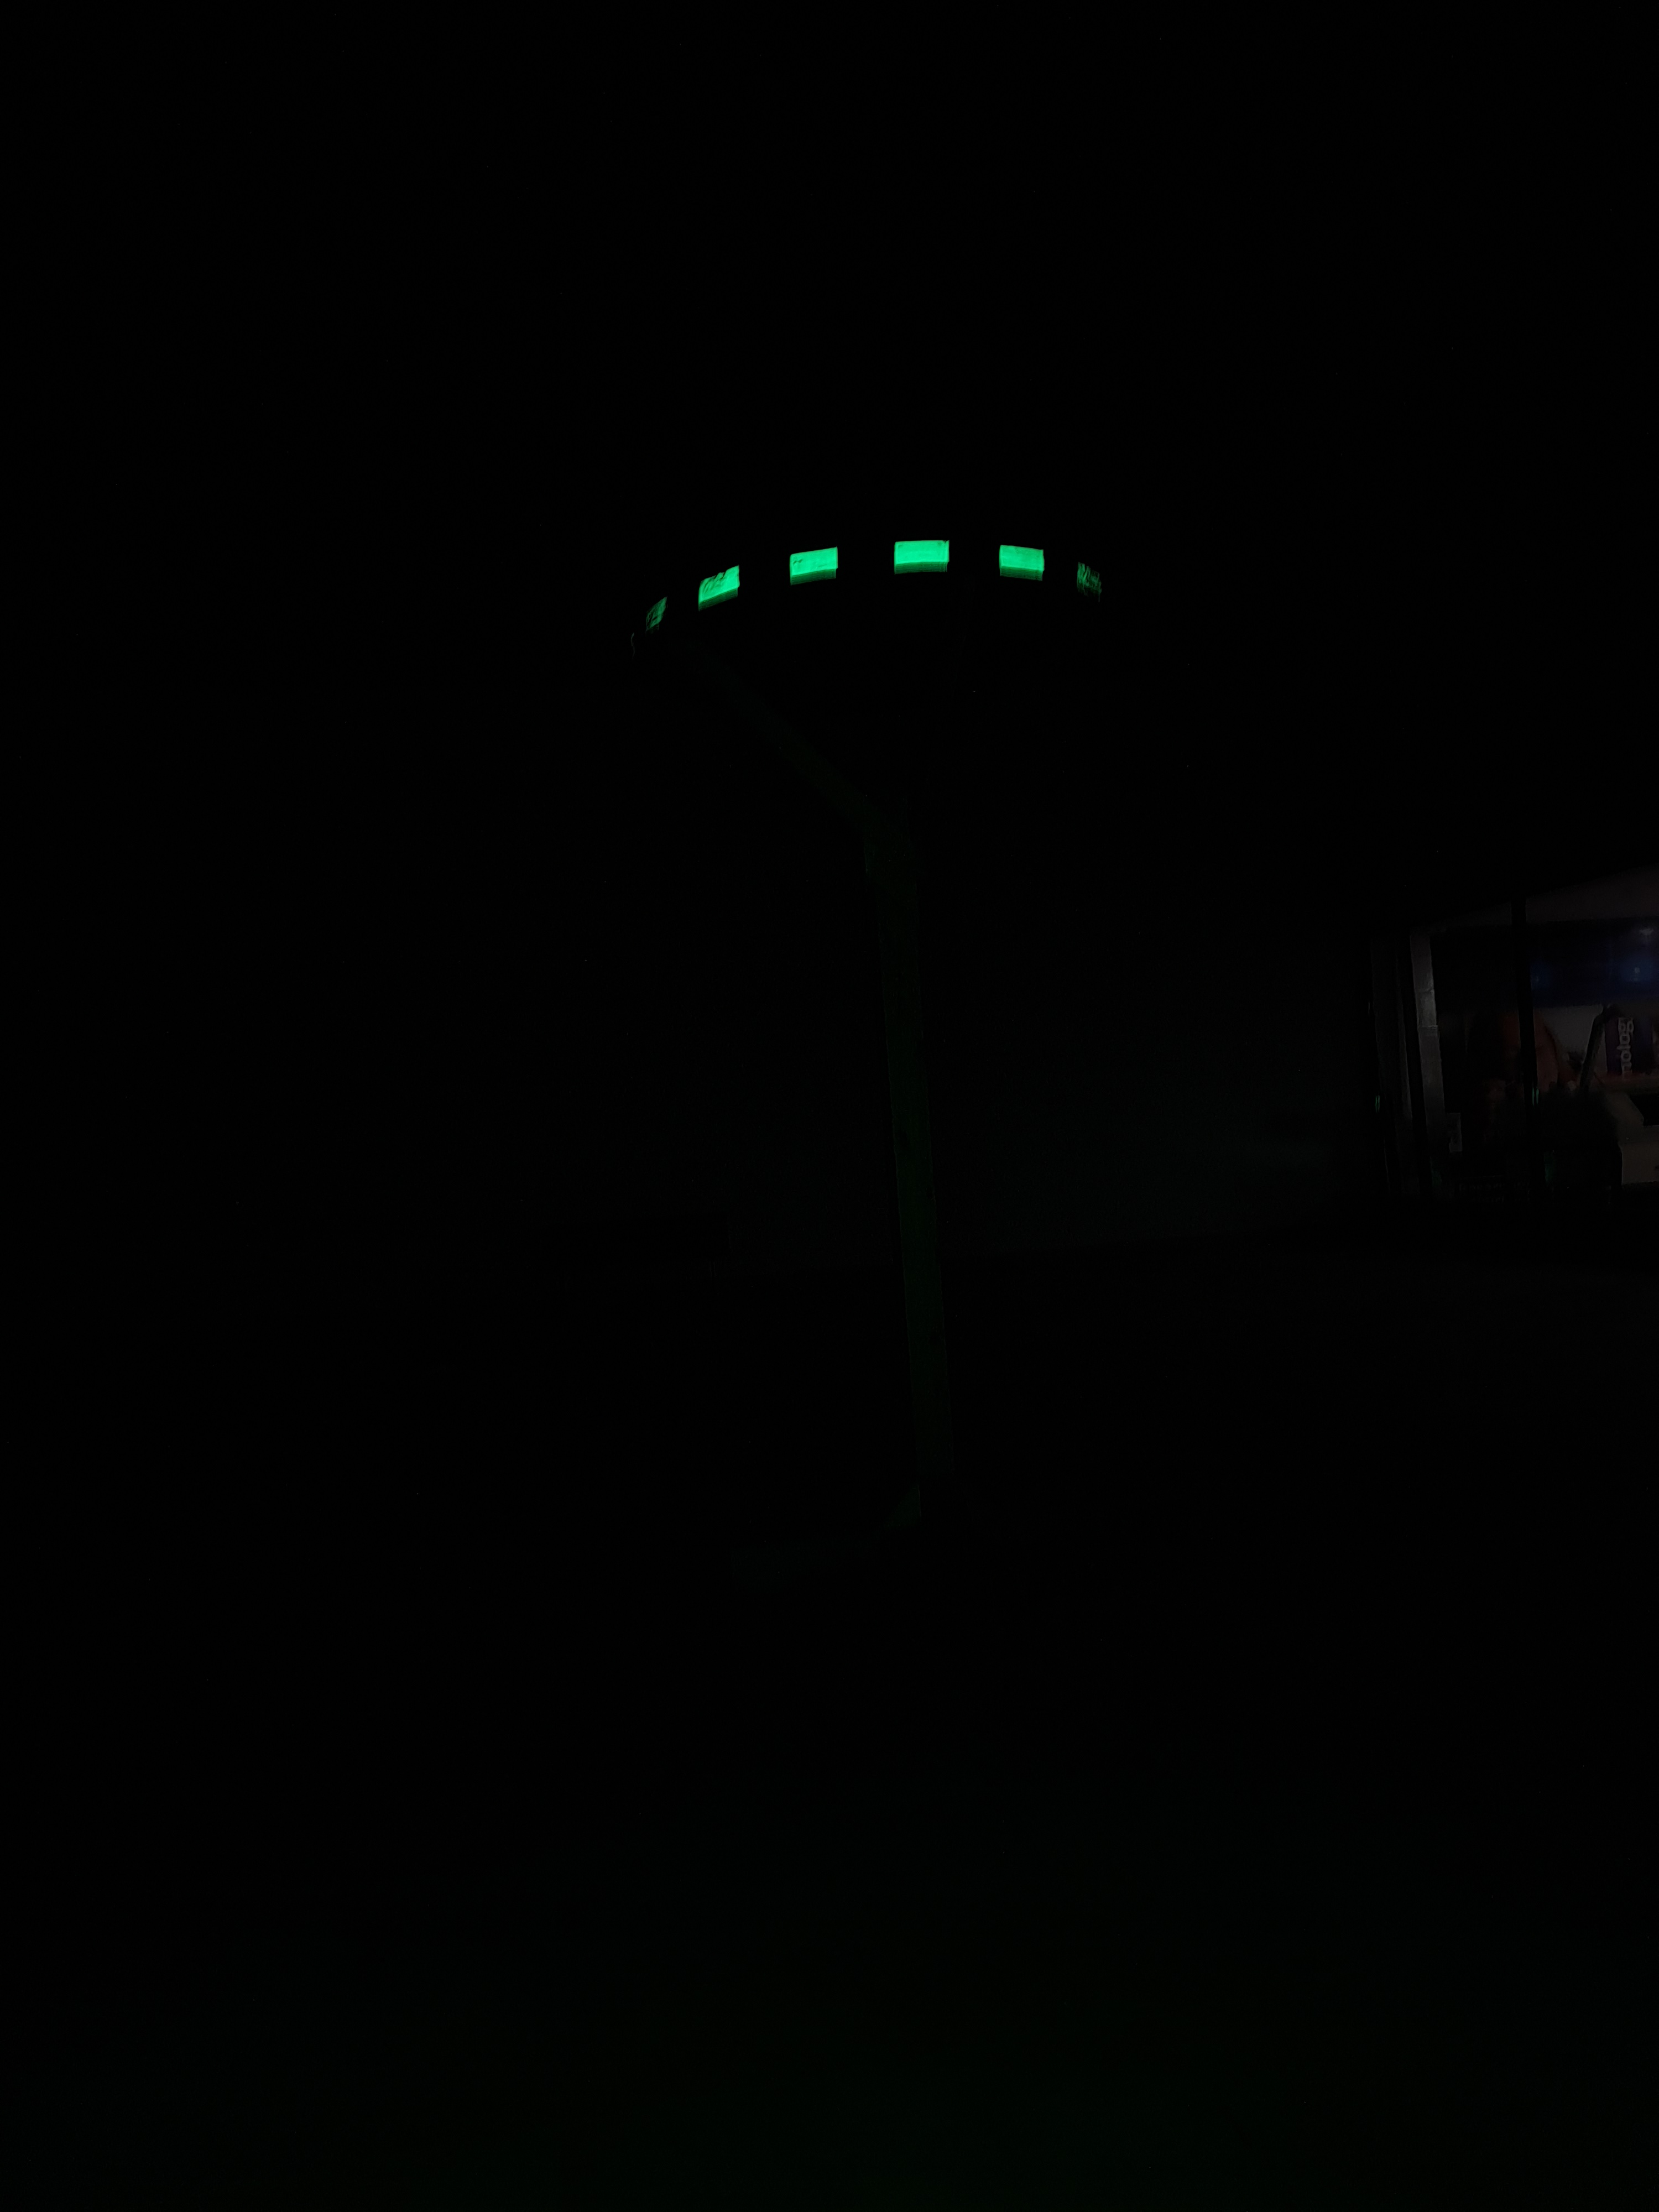hoop: (627, 498, 1129, 655)
